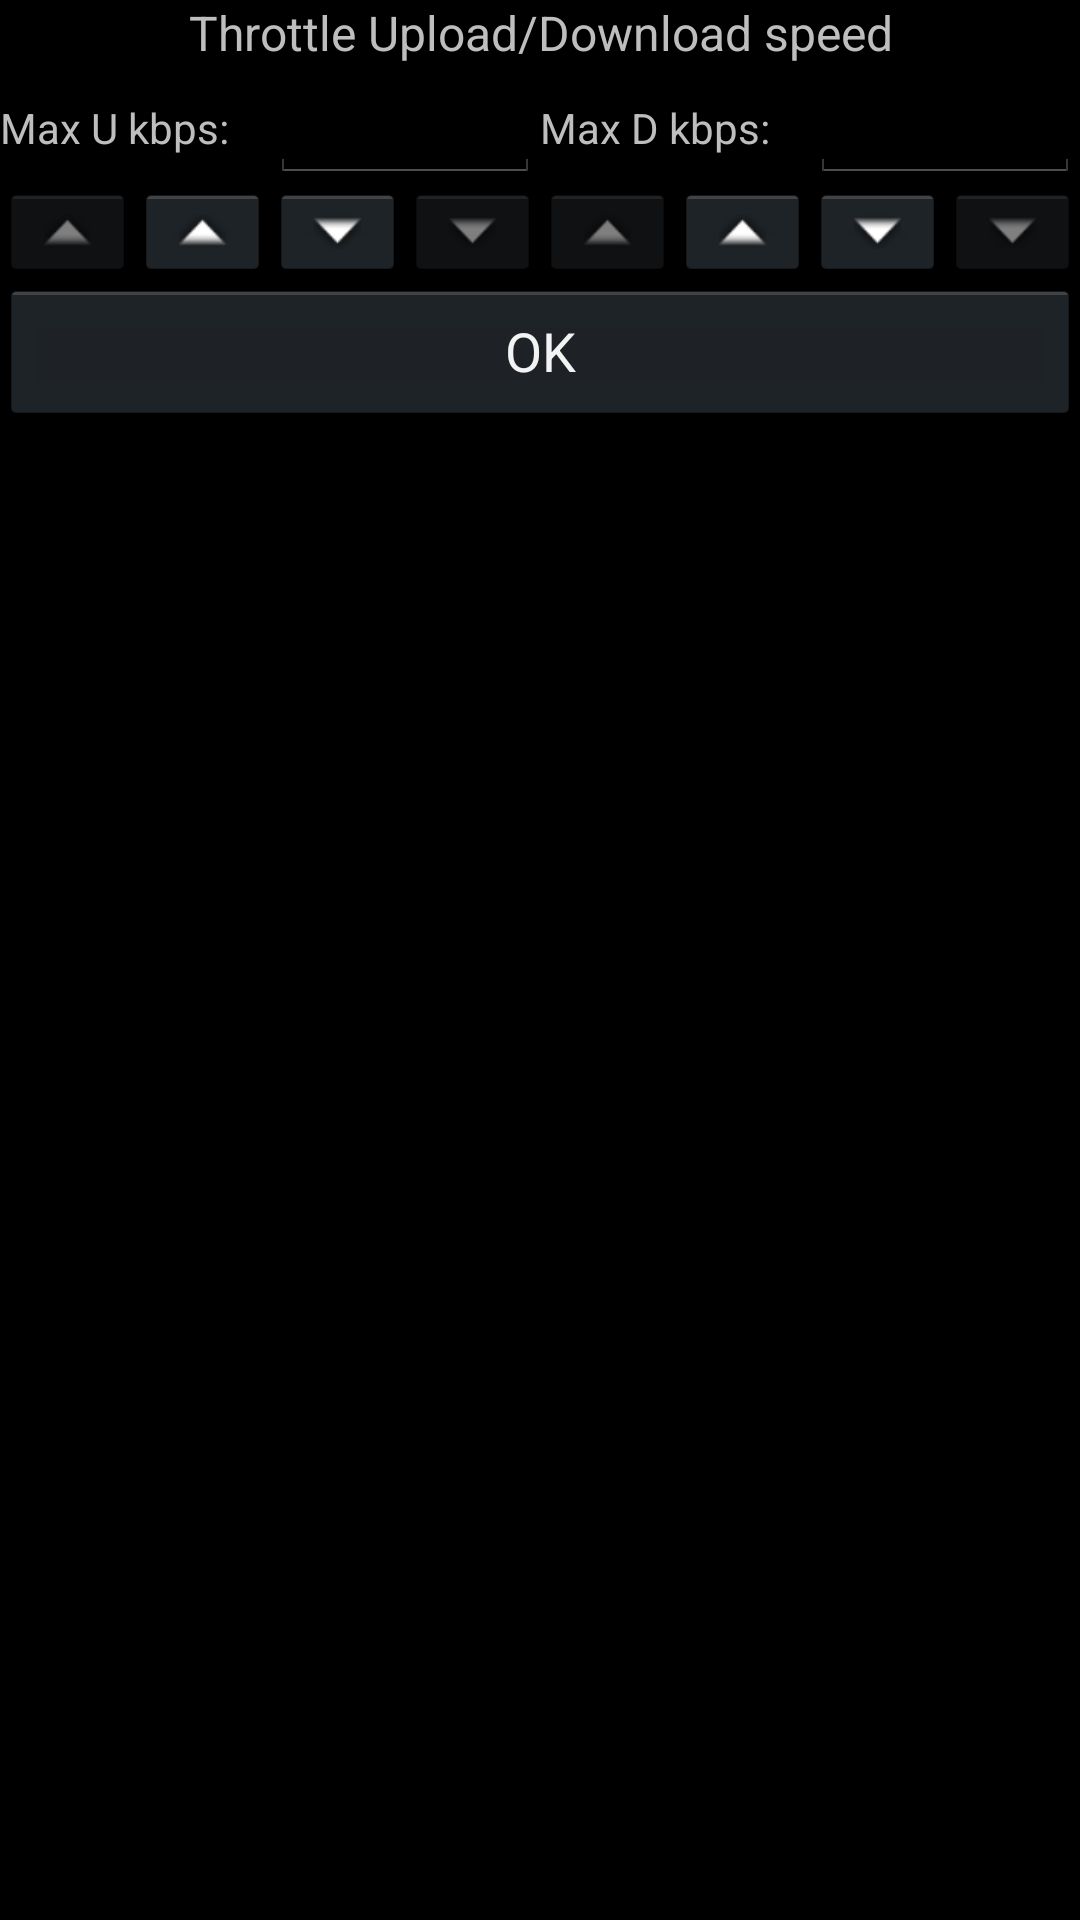

Locate icon controls on the screen. Image size 1080px x 1920px, boxes as (x1, y1, x2, y2).
arrow down float: (416, 195, 529, 269), (956, 195, 1069, 269), (282, 196, 393, 268), (822, 196, 933, 268)
arrow up float: (11, 195, 124, 269), (551, 195, 664, 269), (147, 196, 258, 268), (687, 196, 798, 268)
